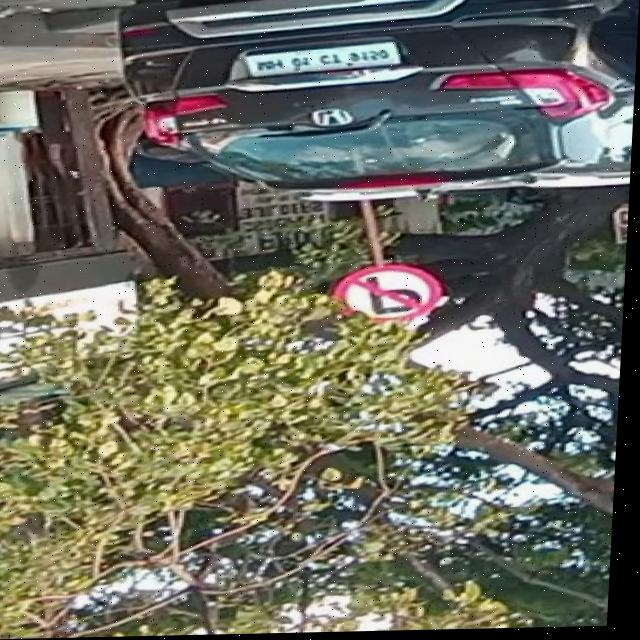plate: (239, 43, 404, 81)
